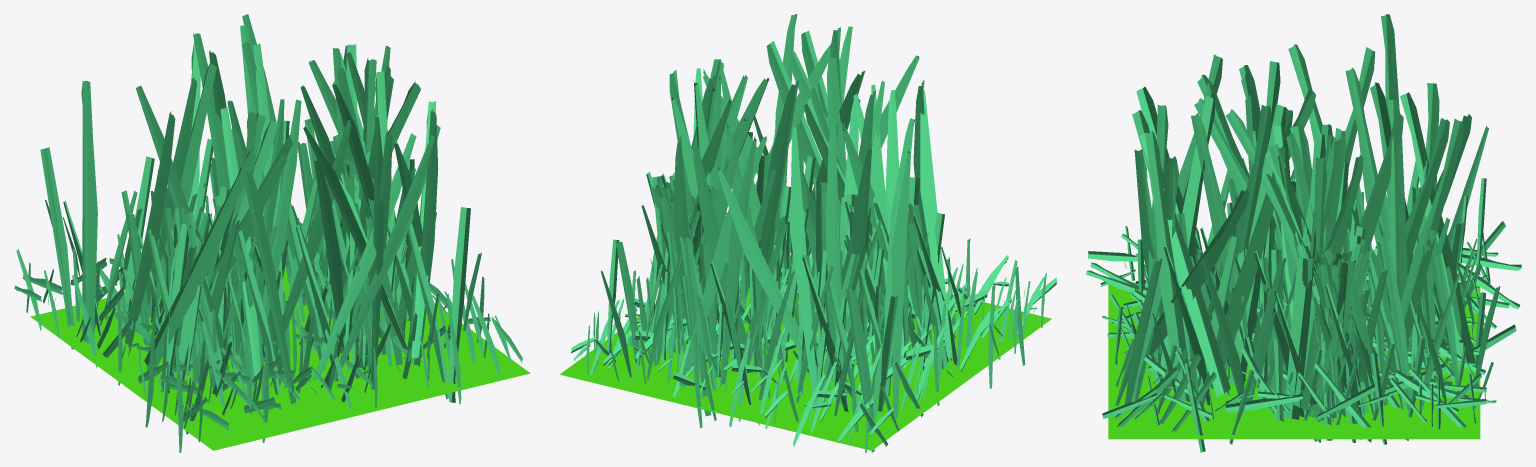
File: Weed.fbx
3 views of the same model, side by side, from view 1: azimuth 30°, elevation 25°; view 2: azimuth 150°, elevation 25°; view 3: azimuth 270°, elevation 25° (orthographic). The views are drawn at different scales.
Visible parts, largest first — view 1: 平面.002; view 2: 平面.002; view 3: 平面.002.
Boxes of the visible parts, x1,y1,x2,y2 form: 平面.002: (14,14,530,452); 平面.002: (560,14,1057,452); 平面.002: (1086,14,1521,452).
Size of the model in its own units: 1150 by 1001 by 1318.
